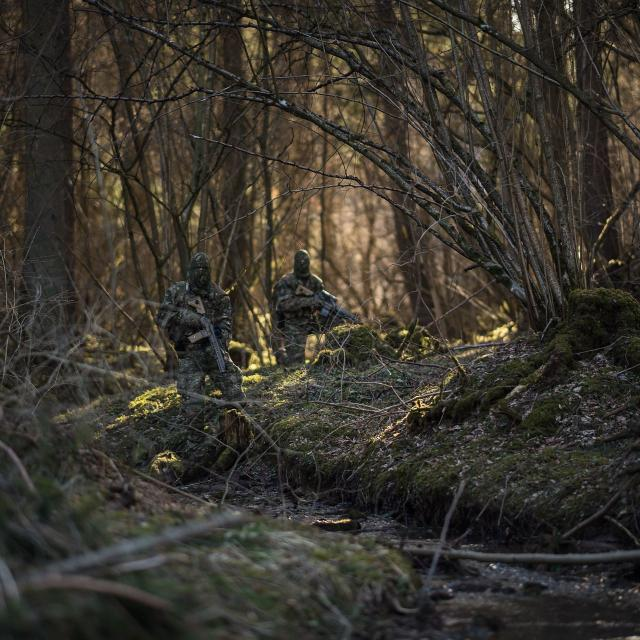Human: (155, 252, 246, 469), (270, 251, 360, 366)
